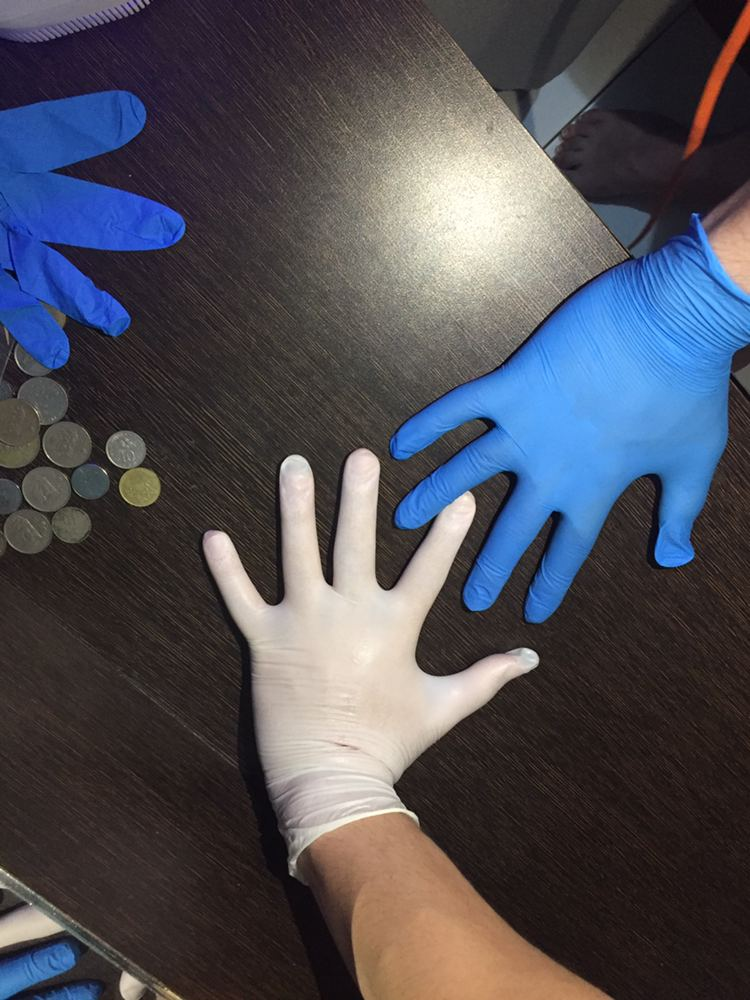glove: (364, 243, 732, 659), (188, 451, 562, 821)
